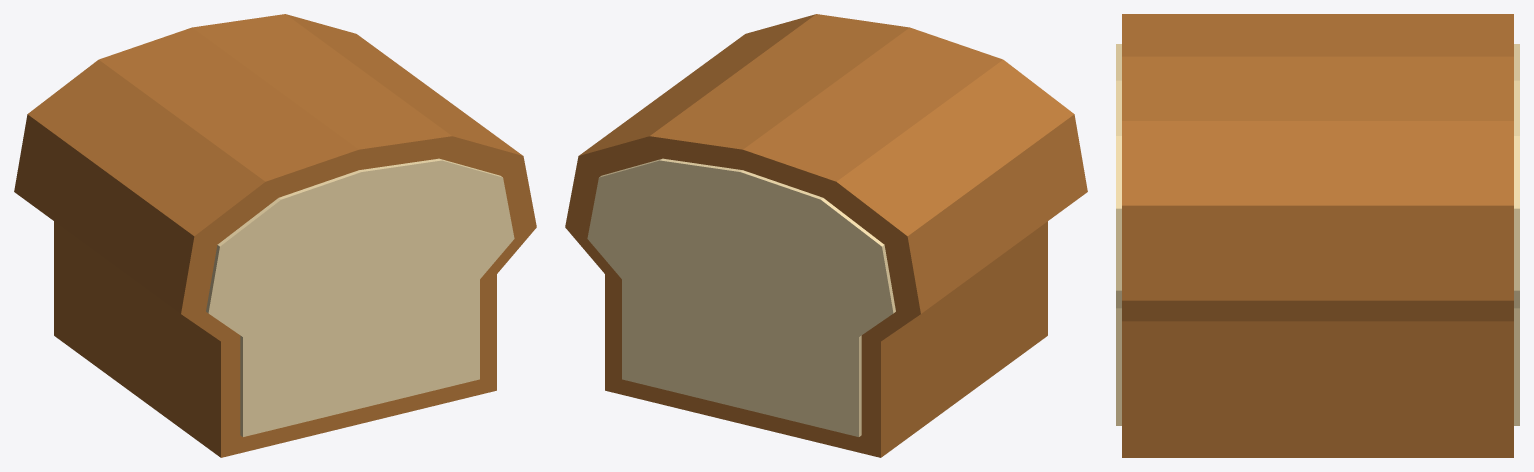
The model's file is Food_Bread.obj.
3 renders of one model, left to right at view 1: azimuth 30°, elevation 25°; view 2: azimuth 150°, elevation 25°; view 3: azimuth 270°, elevation 25°, orthographic. The views are drawn at different scales.
Size of the model in its own units: 1.6 by 1.18 by 1.34.
